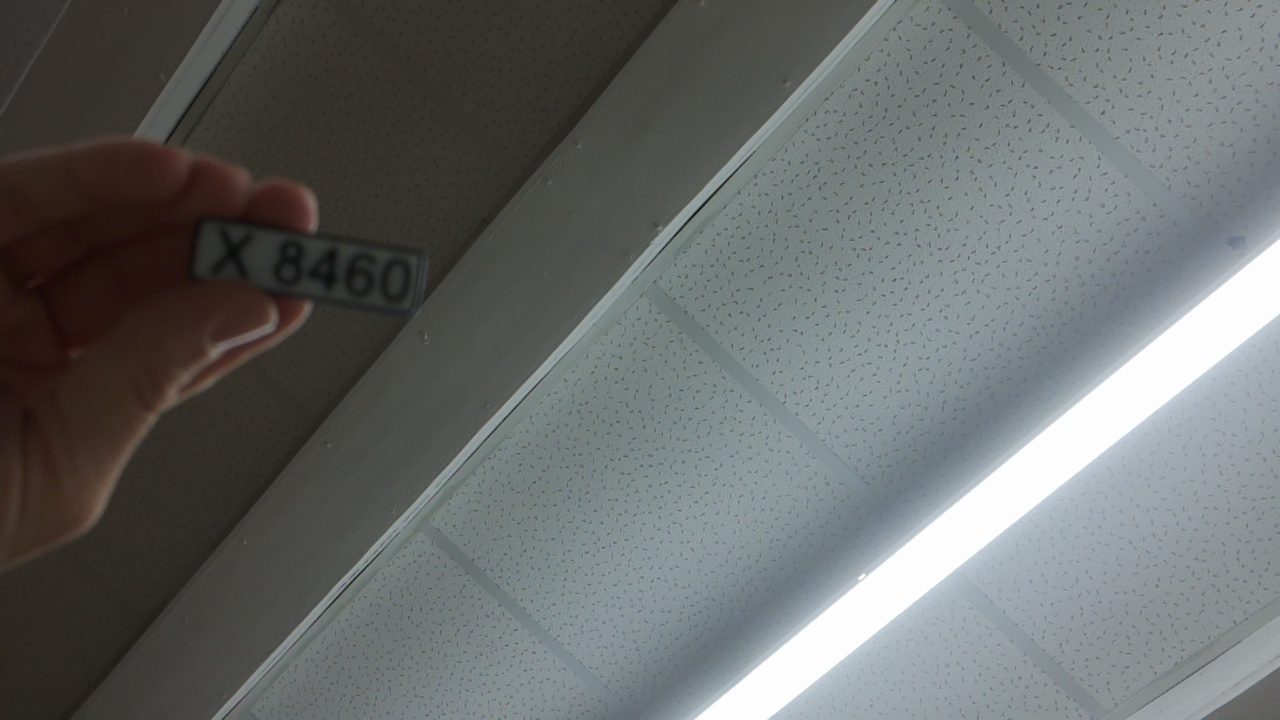license_plate: (179, 209, 435, 331)
